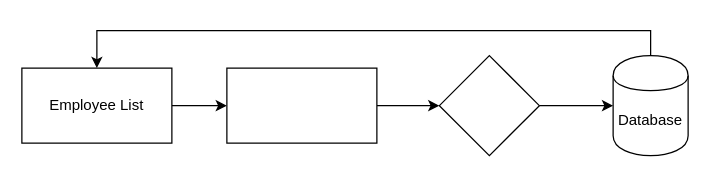
The diagram is 710 pixels wide and 178 high, and some of its shapes have lost their labels. The centre of each missing label's shape, as x and y in pixels:
"Update Employee Information Form" belongs at [301,105].
"Verification" belongs at [488,105].
